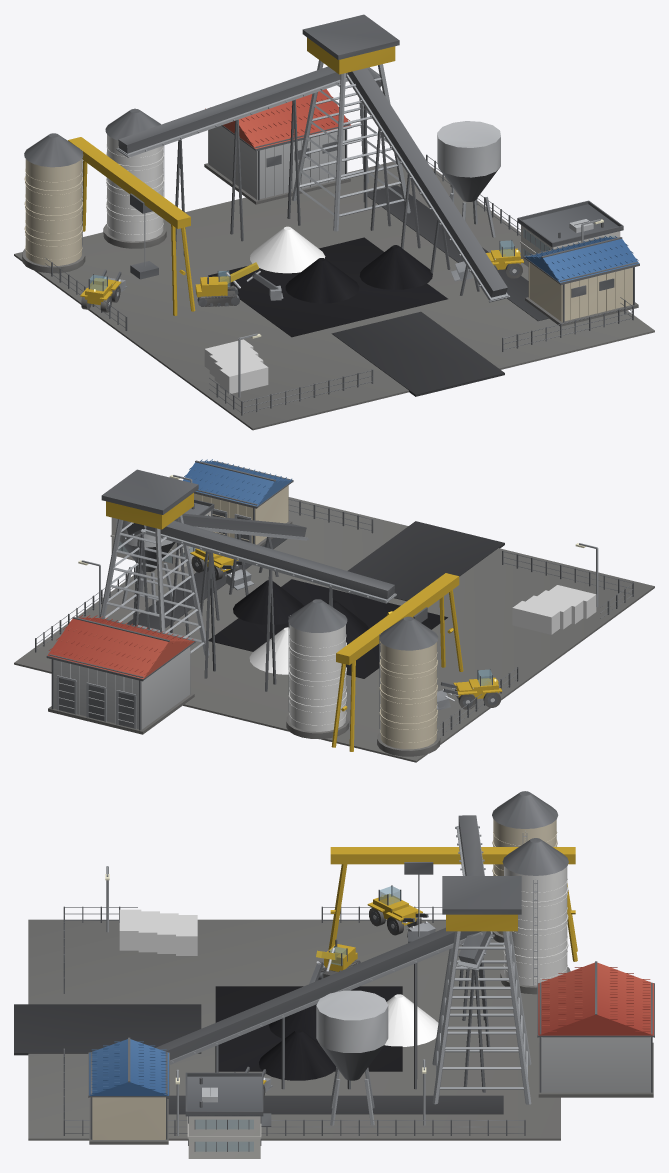
Rendered from Depot_P2.fbx.
The picture shows the model from 3 angles, top to bottom: view 1: azimuth 30°, elevation 25°; view 2: azimuth 150°, elevation 25°; view 3: azimuth 270°, elevation 25°; orthographic projection. The views are drawn at different scales.
Parts seen in each view (by area): view 1: Depot.Yard, Depot.Shed1, Depot.Tower, Depot.ConvMain, Depot.Shed2, Depot.Silo0, Depot.ConvB, Depot.Silo1, Depot.Hopper, Depot.Gantry, Depot.Office, Depot.Fence (+7 smaller); view 2: Depot.Yard, Depot.Shed1, Depot.Tower, Depot.Silo0, Depot.Silo1, Depot.ConvB, Depot.Shed2, Depot.Gantry, Depot.ConvMain, Depot.Containers, Depot.Fence, Depot.Pile1 (+7 smaller); view 3: Depot.Yard, Depot.Shed1, Depot.Tower, Depot.Shed2, Depot.ConvMain, Depot.Silo1, Depot.Office, Depot.Hopper, Depot.Gantry, Depot.Containers, Depot.Silo0, Depot.Fence (+7 smaller).
Boxes of the visible parts, bbox=[...] form: Depot.Yard: bbox=[14, 161, 654, 430]; Depot.Shed1: bbox=[204, 89, 351, 204]; Depot.Tower: bbox=[291, 14, 410, 231]; Depot.ConvMain: bbox=[346, 68, 510, 302]; Depot.Shed2: bbox=[523, 236, 639, 326]; Depot.Silo0: bbox=[22, 133, 85, 273]; Depot.ConvB: bbox=[116, 66, 347, 256]; Depot.Silo1: bbox=[103, 108, 166, 248]; Depot.Hopper: bbox=[437, 121, 500, 237]; Depot.Gantry: bbox=[68, 137, 195, 315]; Depot.Office: bbox=[517, 200, 623, 266]; Depot.Fence: bbox=[45, 154, 633, 415]; Depot.Yard: bbox=[14, 497, 654, 762]; Depot.Shed1: bbox=[46, 615, 195, 734]; Depot.Tower: bbox=[100, 469, 209, 655]; Depot.Silo0: bbox=[377, 616, 440, 756]; Depot.Silo1: bbox=[286, 599, 349, 739]; Depot.ConvB: bbox=[144, 521, 396, 691]; Depot.Shed2: bbox=[183, 459, 293, 545]; Depot.Gantry: bbox=[331, 573, 463, 751]; Depot.ConvMain: bbox=[170, 513, 308, 637]; Depot.Containers: bbox=[512, 585, 596, 634]; Depot.Fence: bbox=[35, 499, 633, 735]; Depot.Pile1: bbox=[233, 580, 303, 624]; Depot.Yard: bbox=[14, 919, 560, 1140]; Depot.Shed1: bbox=[537, 961, 654, 1097]; Depot.Tower: bbox=[432, 876, 531, 1104]; Depot.Shed2: bbox=[88, 1037, 169, 1144]; Depot.ConvMain: bbox=[155, 927, 482, 1089]; Depot.Silo1: bbox=[500, 838, 570, 994]; Depot.Office: bbox=[185, 1072, 271, 1158]; Depot.Hopper: bbox=[316, 990, 388, 1125]; Depot.Gantry: bbox=[328, 847, 577, 961]; Depot.Containers: bbox=[119, 909, 197, 955]; Depot.Silo0: bbox=[492, 791, 558, 942]; Depot.Fence: bbox=[63, 906, 525, 1135].
Bounding box in the file's own units: 8079 × 2966 × 8904.
